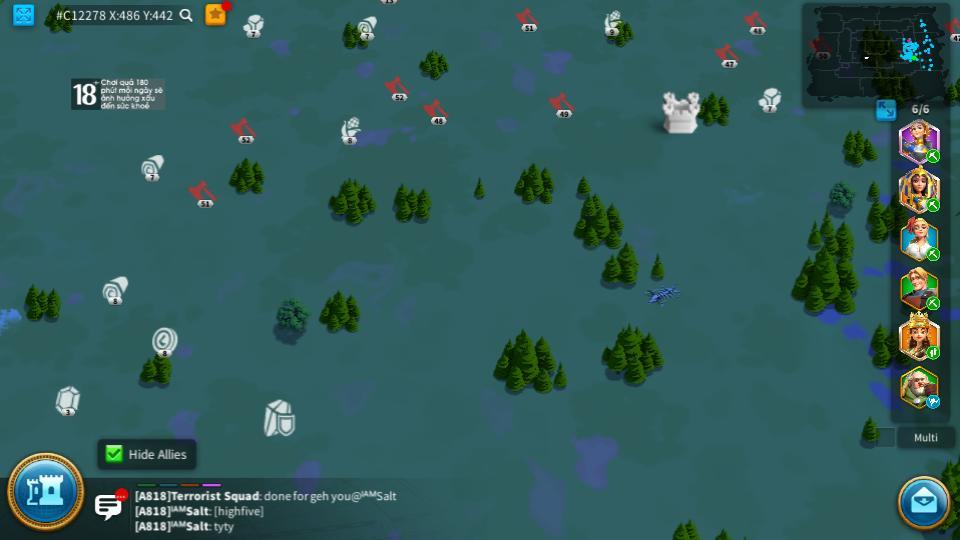gem-z-out: (53, 385, 81, 415)
march_farming: (923, 198, 940, 213), (925, 297, 942, 308), (924, 249, 939, 261)
march_idle: (925, 396, 942, 408)
march_marching: (925, 347, 942, 359), (925, 150, 941, 162)
